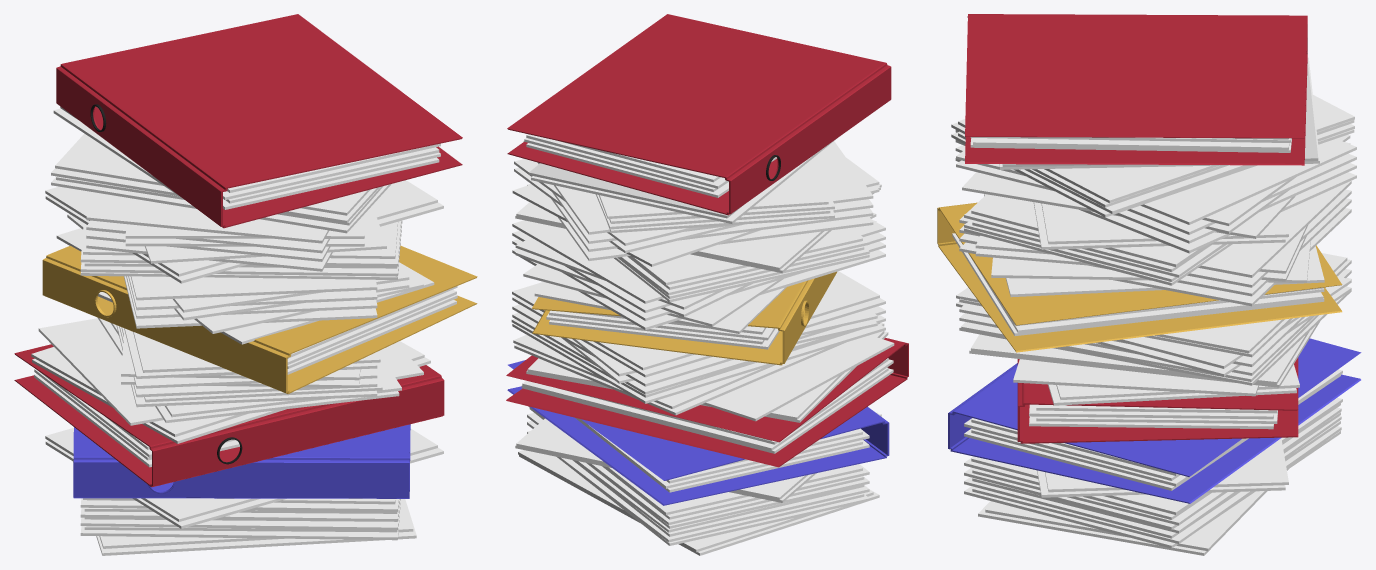
Rendered from documents_1.fbx.
3 renders of one model, left to right at view 1: azimuth 30°, elevation 25°; view 2: azimuth 150°, elevation 25°; view 3: azimuth 270°, elevation 25°, orthographic. The views are drawn at different scales.
Parts seen in each view (by area): view 1: 平面.004, 平面, 平面.002, 平面.001, Cube.014, Cube.066, Cube.039, Cube.053, Cube.058, Cube.022, Cube.019, Cube.010 (+53 smaller); view 2: 平面.004, 平面, 平面.001, 平面.002, Cube.014, Cube.066, Cube.039, Cube.032, Cube.053, Cube.058, Cube.049, Cube.030 (+58 smaller); view 3: 平面.004, 平面.001, 平面.002, 平面, Cube.066, Cube.014, Cube.058, Cube.039, Cube.053, Cube.044, Cube.061, Cube.010 (+59 smaller).
Boxes of the visible parts, box(x1,y1,x2,y2) form: 平面.004: box(56, 14, 462, 228); 平面: box(14, 344, 444, 487); 平面.002: box(42, 245, 477, 393); 平面.001: box(73, 424, 410, 498); Cube.014: box(38, 318, 423, 425); Cube.066: box(86, 193, 328, 243); Cube.039: box(130, 276, 377, 300); Cube.053: box(45, 180, 437, 276); Cube.058: box(55, 133, 370, 215); Cube.022: box(80, 499, 400, 530); Cube.019: box(80, 499, 400, 540); Cube.010: box(45, 428, 437, 521); 平面.004: box(507, 14, 891, 215); 平面: box(506, 338, 908, 467); 平面.001: box(507, 360, 889, 505); 平面.002: box(532, 271, 836, 365); Cube.014: box(703, 335, 894, 421); Cube.066: box(523, 140, 873, 234); Cube.039: box(512, 219, 885, 303); Cube.032: box(512, 271, 879, 370); Cube.053: box(516, 202, 823, 270); Cube.058: box(599, 159, 828, 218); Cube.049: box(629, 228, 862, 285); Cube.030: box(512, 323, 885, 403); 平面.004: box(965, 14, 1307, 165); 平面.001: box(948, 338, 1361, 503); 平面.002: box(937, 202, 1342, 352); 平面: box(1017, 357, 1298, 443); Cube.066: box(955, 130, 1356, 224); Cube.014: box(1013, 359, 1258, 396); Cube.058: box(958, 95, 1354, 203); Cube.039: box(959, 180, 1351, 277); Cube.053: box(1041, 203, 1288, 244); Cube.044: box(991, 241, 1310, 282); Cube.061: box(962, 172, 1295, 238); Cube.010: box(1045, 438, 1288, 492).
Bounding box in the file's own units: 378 × 390 × 369.
